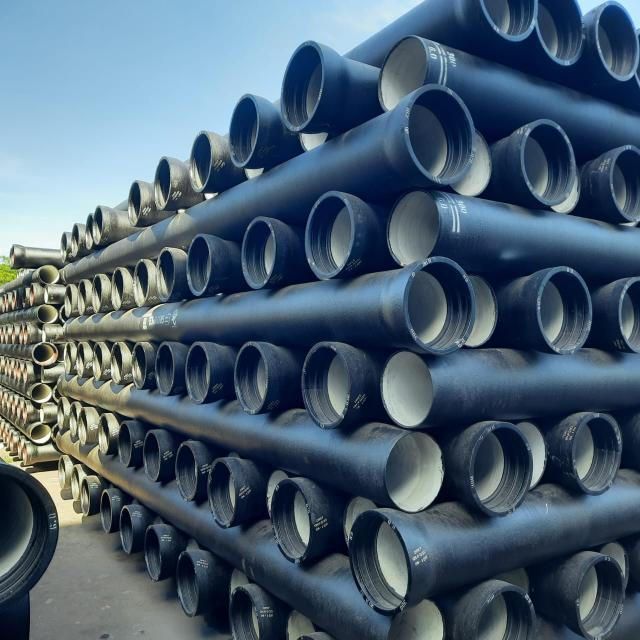pipe: (0, 448, 66, 624), (346, 507, 427, 622), (517, 257, 603, 362), (401, 77, 478, 189), (275, 39, 355, 141), (399, 250, 470, 358), (456, 405, 527, 512), (550, 549, 633, 639), (552, 402, 627, 499), (441, 577, 552, 640), (507, 110, 577, 206), (374, 182, 443, 274), (367, 35, 446, 115), (299, 185, 360, 285), (373, 435, 451, 512), (300, 331, 361, 429), (376, 339, 440, 428), (586, 0, 640, 103), (199, 447, 258, 541), (527, 0, 588, 89), (229, 202, 288, 294), (272, 471, 325, 570), (224, 80, 279, 175), (227, 333, 285, 418), (164, 539, 211, 640), (446, 268, 502, 350), (472, 0, 546, 55), (594, 138, 635, 235), (593, 272, 640, 355), (514, 409, 554, 500), (217, 584, 281, 640), (452, 121, 495, 204), (382, 583, 444, 640), (182, 124, 226, 203), (183, 226, 227, 303), (142, 332, 188, 404), (176, 335, 218, 410), (342, 485, 386, 556), (168, 431, 205, 515), (601, 533, 632, 615), (138, 519, 170, 597), (138, 423, 169, 499), (151, 146, 182, 221), (546, 153, 583, 209), (91, 478, 122, 542), (149, 240, 179, 306), (274, 603, 325, 640), (123, 170, 152, 234), (261, 466, 291, 525), (130, 338, 161, 393), (283, 124, 333, 157), (113, 418, 140, 477), (127, 249, 152, 311), (93, 199, 121, 252), (121, 499, 143, 566), (195, 176, 233, 214), (626, 393, 640, 494), (221, 558, 251, 603), (109, 338, 133, 390), (59, 393, 79, 454), (78, 462, 94, 535), (94, 408, 113, 467), (46, 393, 74, 431), (54, 338, 76, 383), (72, 336, 92, 385), (89, 339, 109, 388), (66, 465, 84, 519), (32, 333, 58, 370), (80, 209, 99, 258), (631, 17, 640, 120), (78, 401, 96, 452), (86, 267, 102, 322), (108, 268, 128, 312), (67, 216, 86, 261), (30, 294, 54, 329), (181, 528, 200, 572), (628, 539, 640, 606), (243, 157, 274, 182), (35, 258, 63, 285), (3, 244, 29, 272), (19, 435, 37, 475), (57, 279, 78, 312), (51, 228, 71, 262), (54, 456, 69, 500), (34, 399, 52, 431), (21, 400, 37, 435), (27, 381, 51, 403), (33, 327, 64, 344), (26, 277, 40, 314), (4, 353, 18, 389), (2, 378, 14, 420), (38, 362, 56, 389), (300, 621, 325, 640), (18, 315, 31, 351), (12, 387, 22, 433), (8, 381, 18, 423), (42, 281, 58, 307), (5, 284, 18, 315), (172, 202, 195, 219), (23, 404, 33, 443), (28, 416, 45, 438), (14, 285, 28, 311), (75, 276, 86, 309), (15, 356, 24, 395), (18, 356, 27, 394), (9, 353, 17, 391), (11, 323, 21, 351), (23, 285, 34, 310), (18, 429, 24, 473), (5, 321, 14, 350), (16, 399, 24, 430), (3, 413, 8, 454), (3, 285, 9, 316), (11, 424, 15, 456), (1, 317, 4, 358), (3, 353, 7, 380), (8, 417, 10, 456), (15, 437, 16, 465)
